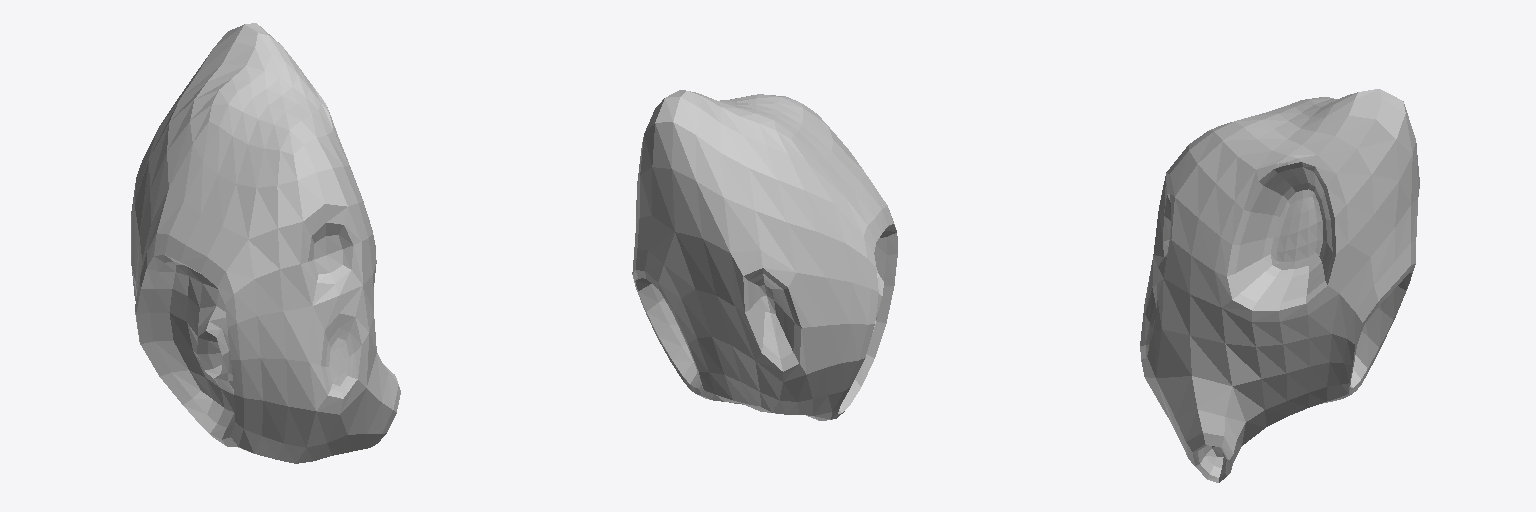
File: AsteroidSphere_001.obj
3 views of the same model, side by side, from view 1: azimuth 30°, elevation 25°; view 2: azimuth 150°, elevation 25°; view 3: azimuth 270°, elevation 25° (orthographic).
Parts seen in each view (by area): view 1: Sphere.001; view 2: Sphere.001; view 3: Sphere.001.
Part boxes in pixels (bbox=[...]): Sphere.001: bbox=[131, 23, 400, 463]; Sphere.001: bbox=[632, 90, 897, 420]; Sphere.001: bbox=[1140, 89, 1419, 482].
Size of the model in its own units: 2.36 by 3.7 by 2.52.